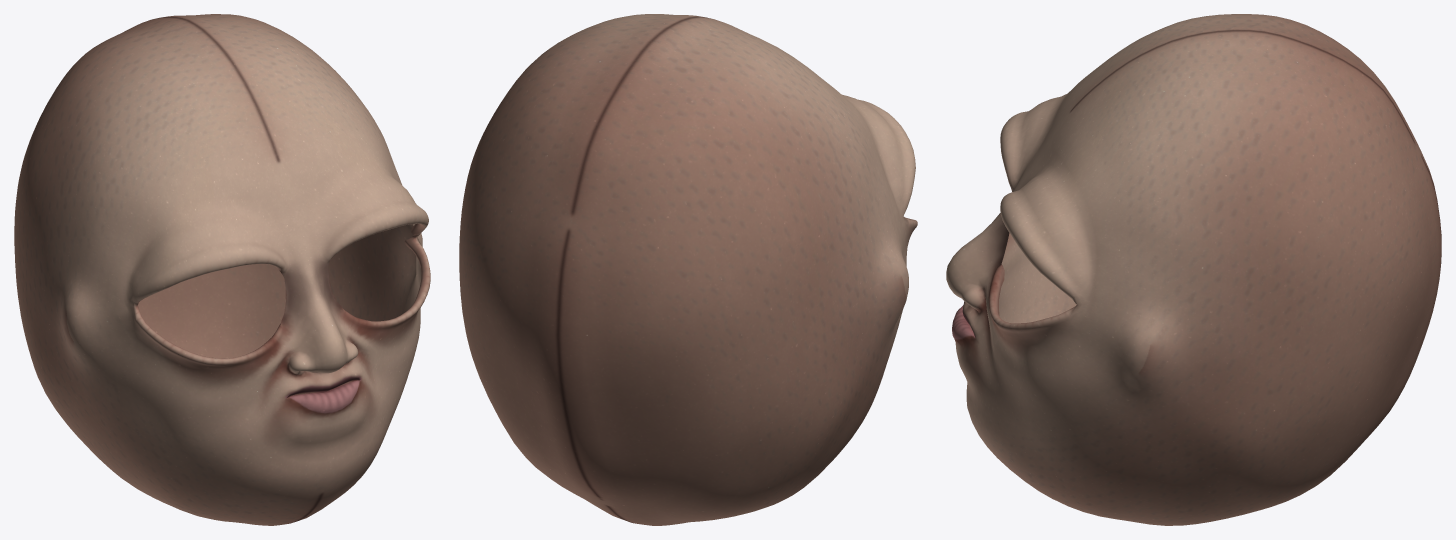
File: fishytest.FBX
3 views of the same model, side by side, from view 1: azimuth 30°, elevation 25°; view 2: azimuth 150°, elevation 25°; view 3: azimuth 270°, elevation 25° (orthographic). The views are drawn at different scales.
Visible parts, largest first — view 1: fishynew_low_001; view 2: fishynew_low_001; view 3: fishynew_low_001.
Part boxes in pixels (<box>): fishynew_low_001: <box>14,14,430,525</box>; fishynew_low_001: <box>459,14,917,525</box>; fishynew_low_001: <box>946,14,1441,525</box>.
Bounding box in the file's own units: 380 × 436 × 469.
